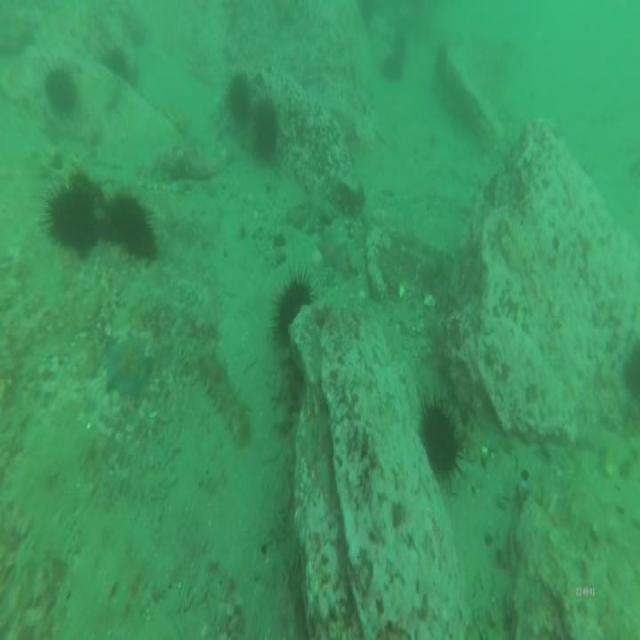echinus: (39, 177, 101, 259), (415, 389, 466, 485), (101, 188, 161, 269), (270, 267, 316, 345), (40, 60, 81, 119), (222, 65, 252, 133), (250, 90, 279, 158), (98, 41, 133, 84), (380, 46, 406, 85)
holothurian: (195, 343, 255, 453), (66, 163, 116, 216)
starfish: (102, 332, 156, 408)
